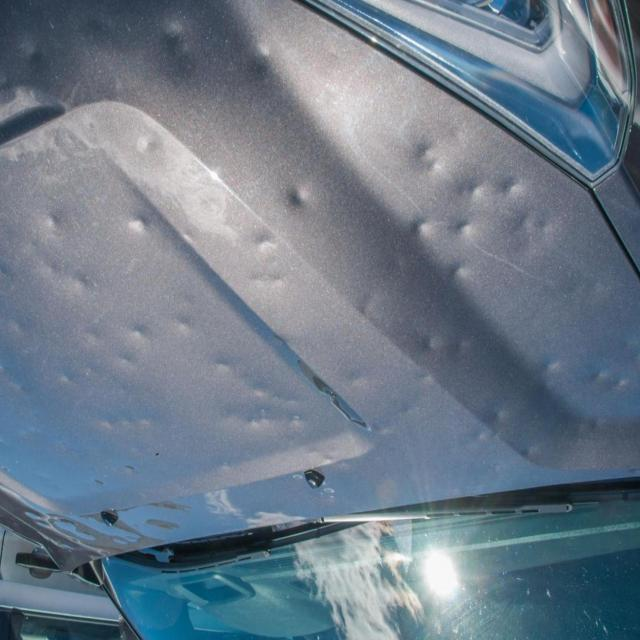dent: (393, 132, 551, 268)
